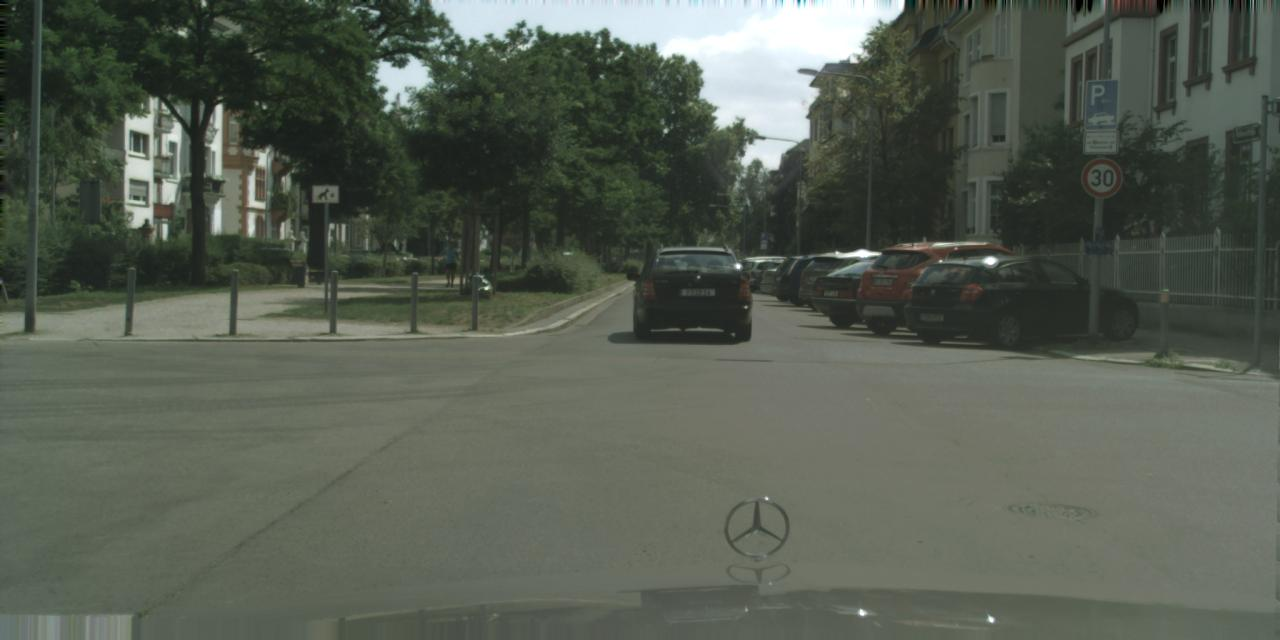ped: (440, 239, 459, 287)
